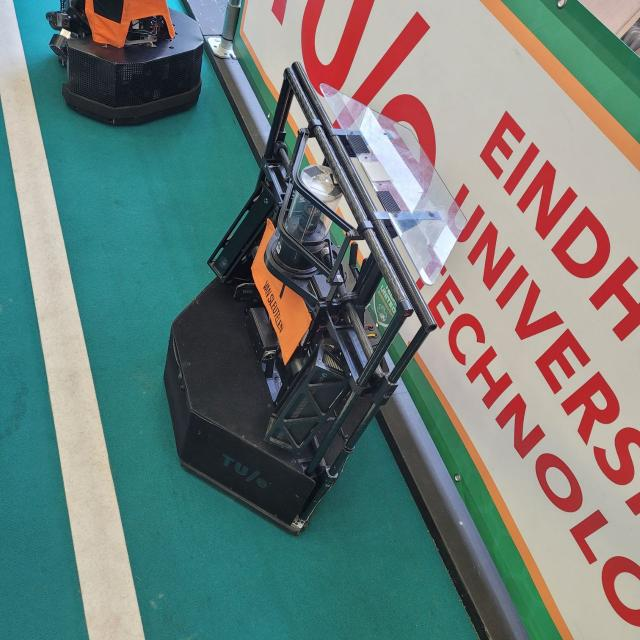robot: (124, 60, 488, 551), (30, 3, 216, 132)
